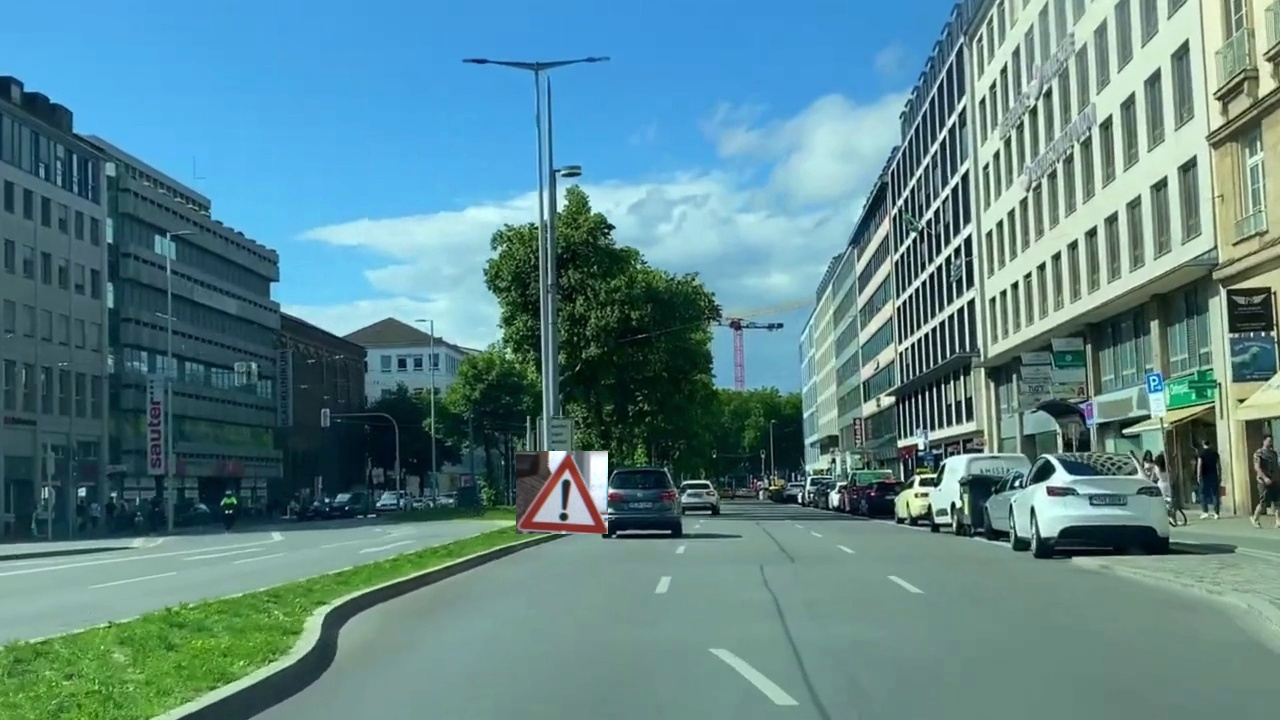Caution: (516, 451, 608, 534)
